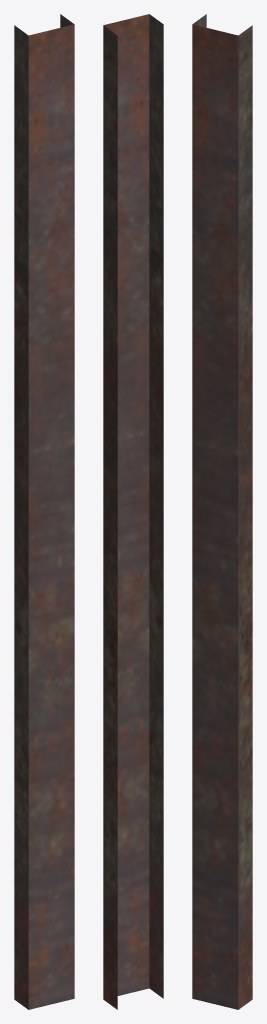
Rendered from V_Pillar_04.FBX.
3 renders of one model, left to right at view 1: azimuth 30°, elevation 25°; view 2: azimuth 210°, elevation 25°; view 3: azimuth 330°, elevation 25°, orthographic.
Parts seen in each view (by area): view 1: V_Pillar_04; view 2: V_Pillar_04; view 3: V_Pillar_04.
Part boxes in pixels (x1,y1,x2,y2): V_Pillar_04: (14, 14, 74, 1009); V_Pillar_04: (103, 14, 163, 1009); V_Pillar_04: (192, 14, 252, 1009).
Bounding box in the file's own units: 28.18 × 571 × 15.
